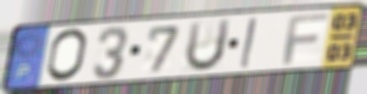3: (92, 24, 131, 81)
7: (145, 23, 182, 75)
F: (280, 12, 331, 67)
I: (237, 16, 259, 70)
O: (44, 26, 90, 84)
U: (183, 16, 234, 74)
